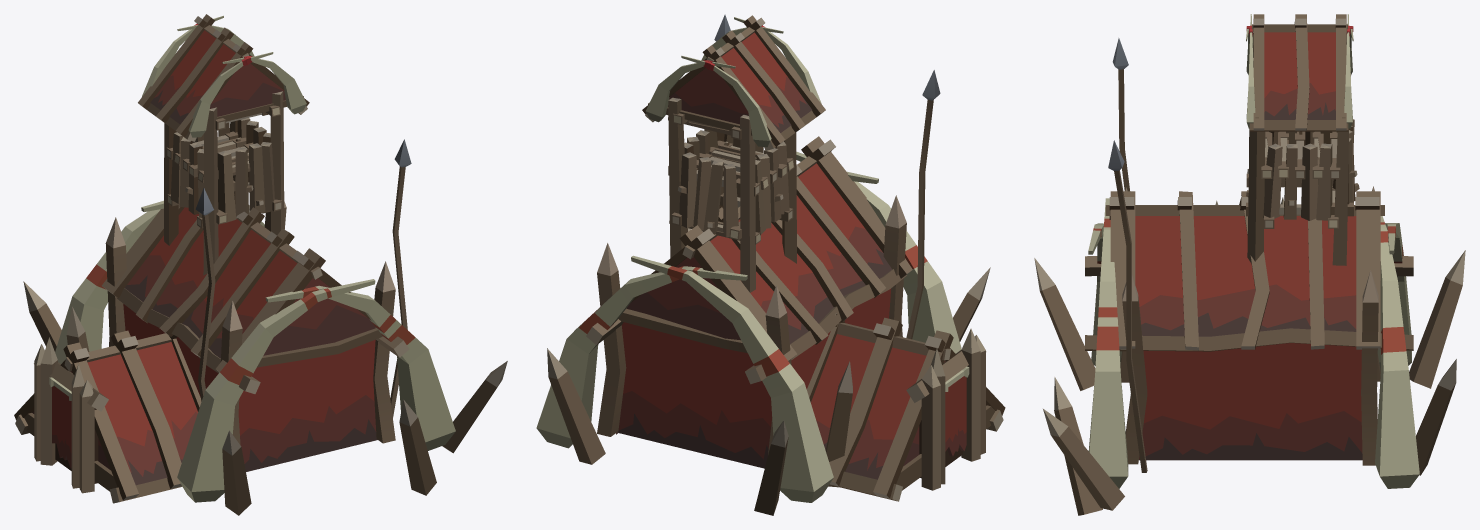
File: SF_Bld_Goblin_House_03.fbx
The picture shows the model from 3 angles, left to right: view 1: azimuth 30°, elevation 25°; view 2: azimuth 150°, elevation 25°; view 3: azimuth 270°, elevation 25°; orthographic projection. The views are drawn at different scales.
Visible parts, largest first — view 1: SF_Bld_Goblin_House_03; view 2: SF_Bld_Goblin_House_03; view 3: SF_Bld_Goblin_House_03.
Part boxes in pixels (bbox=[...]): SF_Bld_Goblin_House_03: bbox=[14, 14, 507, 515]; SF_Bld_Goblin_House_03: bbox=[536, 14, 1005, 515]; SF_Bld_Goblin_House_03: bbox=[1034, 14, 1465, 515].
Bounding box in the file's own units: 12.04 × 13.31 × 11.64.
